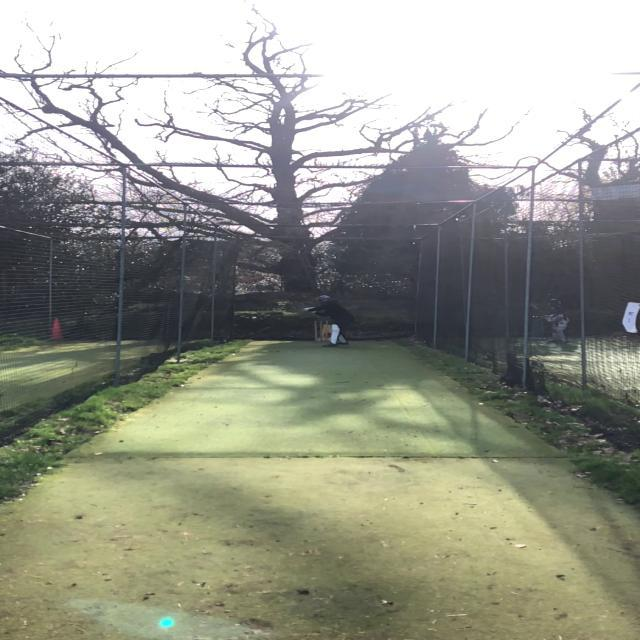ball: (252, 316, 256, 320)
